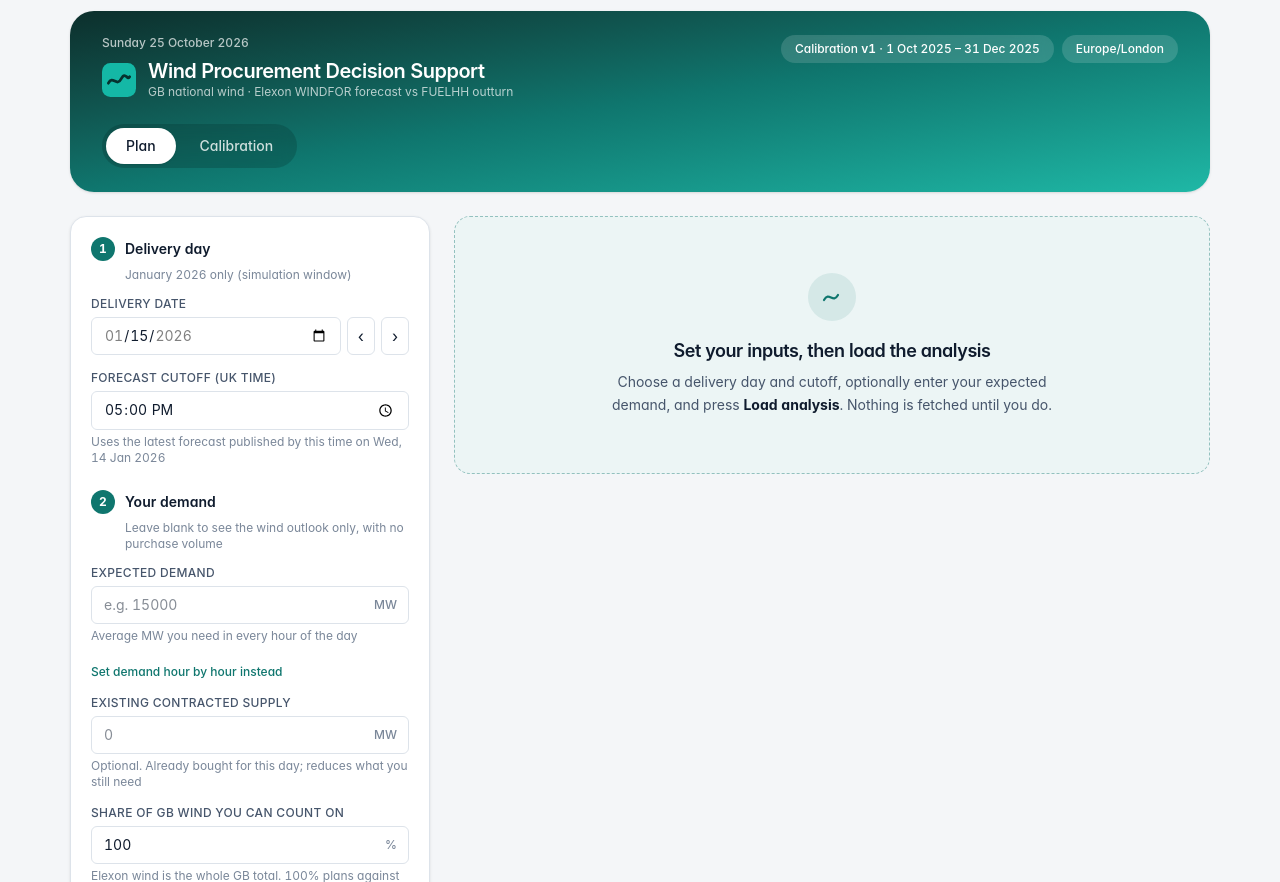
Test case: Purchase plan › lists the assumptions behind the number on the 'How it's calculated' tab
This screenshot has width=1280, height=882.
Type "15000" into the field labelled "Expected demand" at (250, 605), box [91, 586, 409, 624]
(page scrolled)
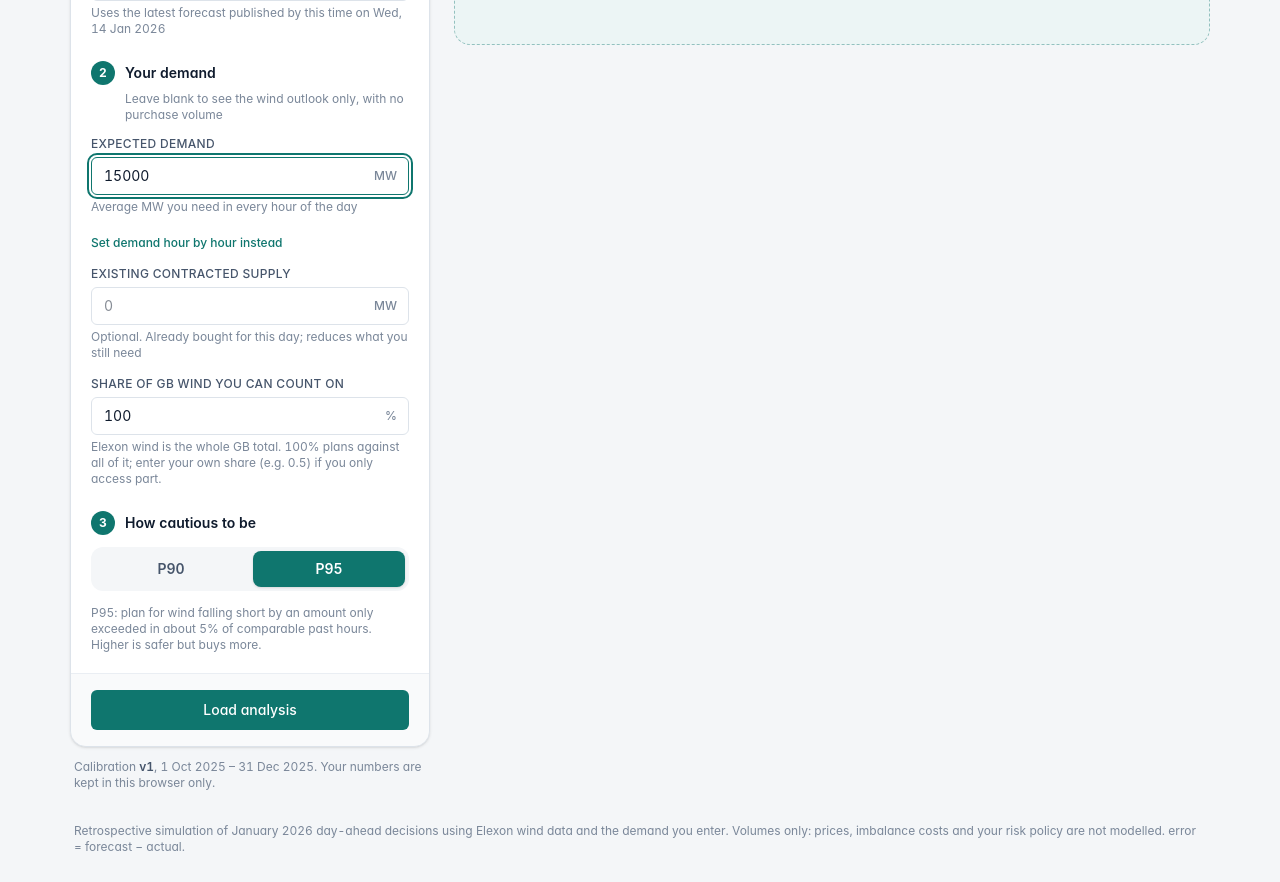
Click the button "Load analysis" at (250, 710), box [91, 690, 409, 730]
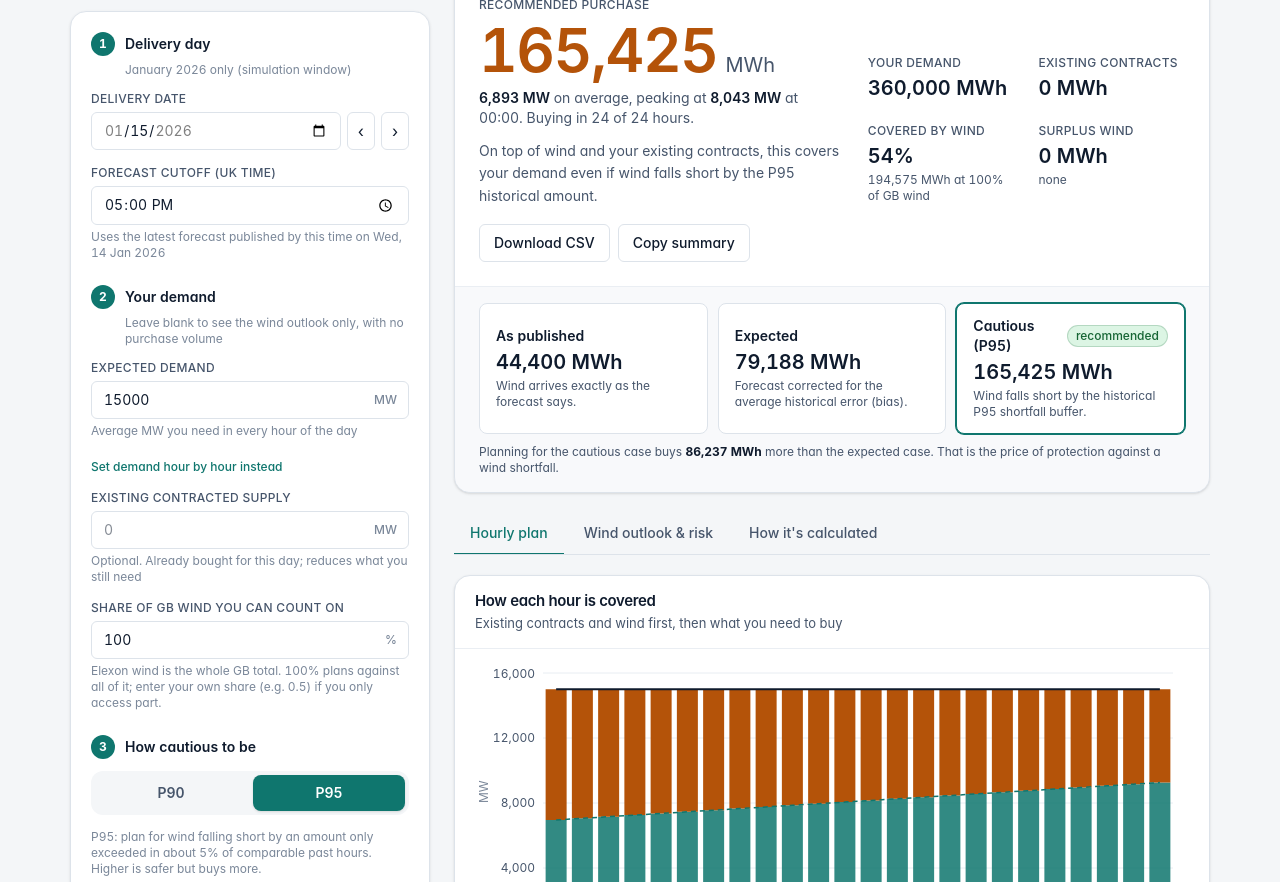
expect the text "165,425" is shown: met, box [479, 20, 718, 80]
Click the tab "How it's calculated" at (813, 534), box [733, 513, 894, 555]
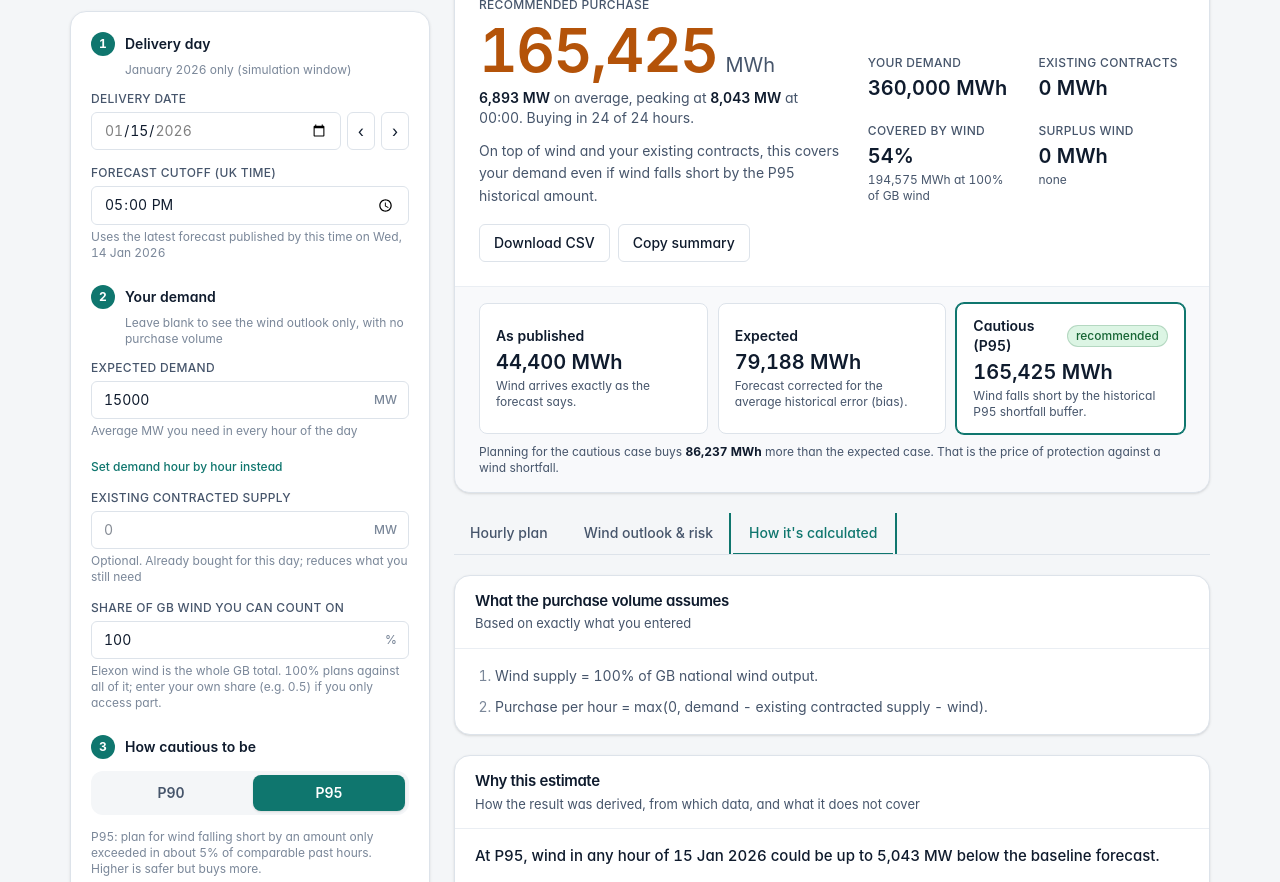
expect the heading "What the purchase volume assumes" is shown: met, box [475, 590, 729, 612]
expect the list item "max(0, demand - existing contracted supply - wind)" is shown: met, box [495, 698, 988, 714]
